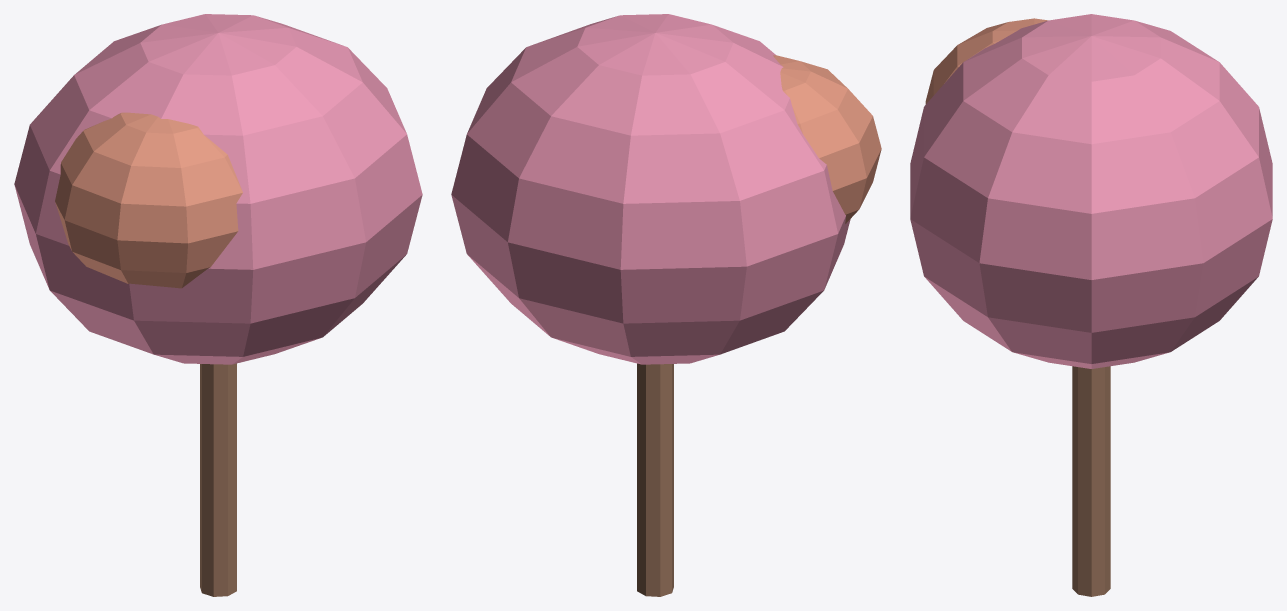
File: floweringTree.obj
3 renders of one model, left to right at view 1: azimuth 30°, elevation 25°; view 2: azimuth 150°, elevation 25°; view 3: azimuth 270°, elevation 25°, orthographic.
Visible parts, largest first — view 1: floweringTree; view 2: floweringTree; view 3: floweringTree.
Boxes of the visible parts, left/top/right/bottom form: floweringTree: left=14, top=14, right=422, bottom=596; floweringTree: left=451, top=14, right=881, bottom=596; floweringTree: left=910, top=14, right=1272, bottom=596.
Bounding box in the file's own units: 4.4 × 6.4 × 3.8.
